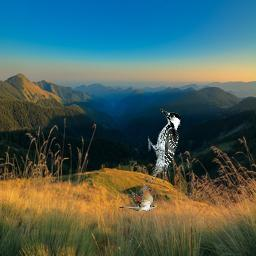Cuckoo: (118, 184, 158, 211)
Woodpecker: (148, 108, 181, 184)
